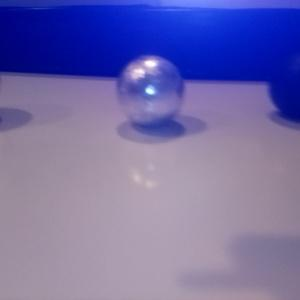alive_ball: (116, 54, 184, 128)
dead_ball: (268, 63, 300, 117)
